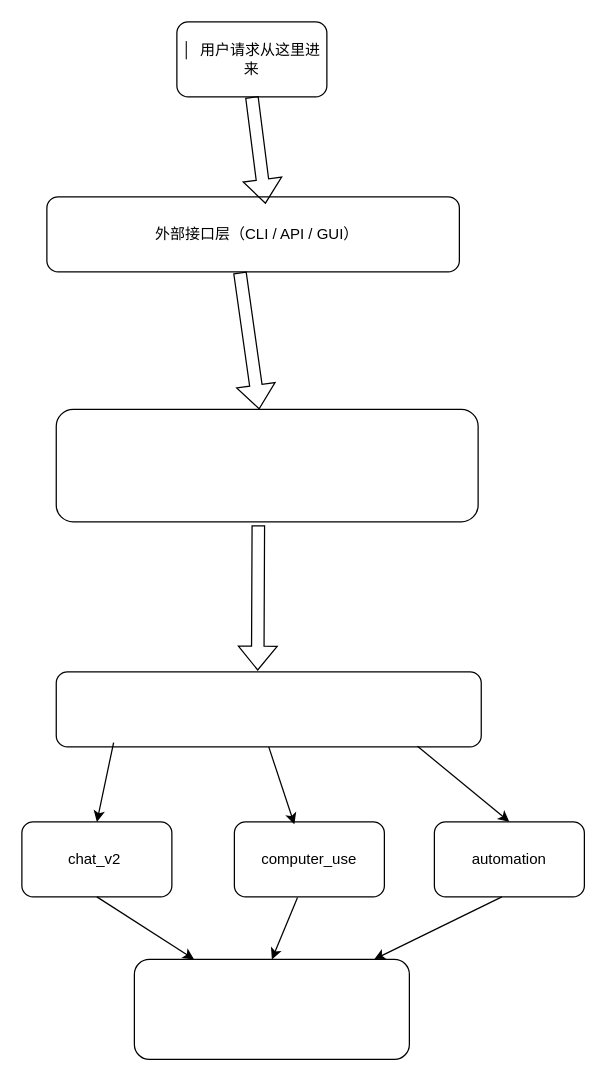
The diagram is 606 pixels wide and 1081 high, and some of its shapes have lost their labels. Each missing label, with the centre of its shape:
业务域门面 │ ← domain/chat, domain/computer ..: (268,709)
共享能力层（L1-L4 四层）: (271,1008)
统一运行时抽象 不管哪种业务，都变成同一个任务模型: (266,465)
